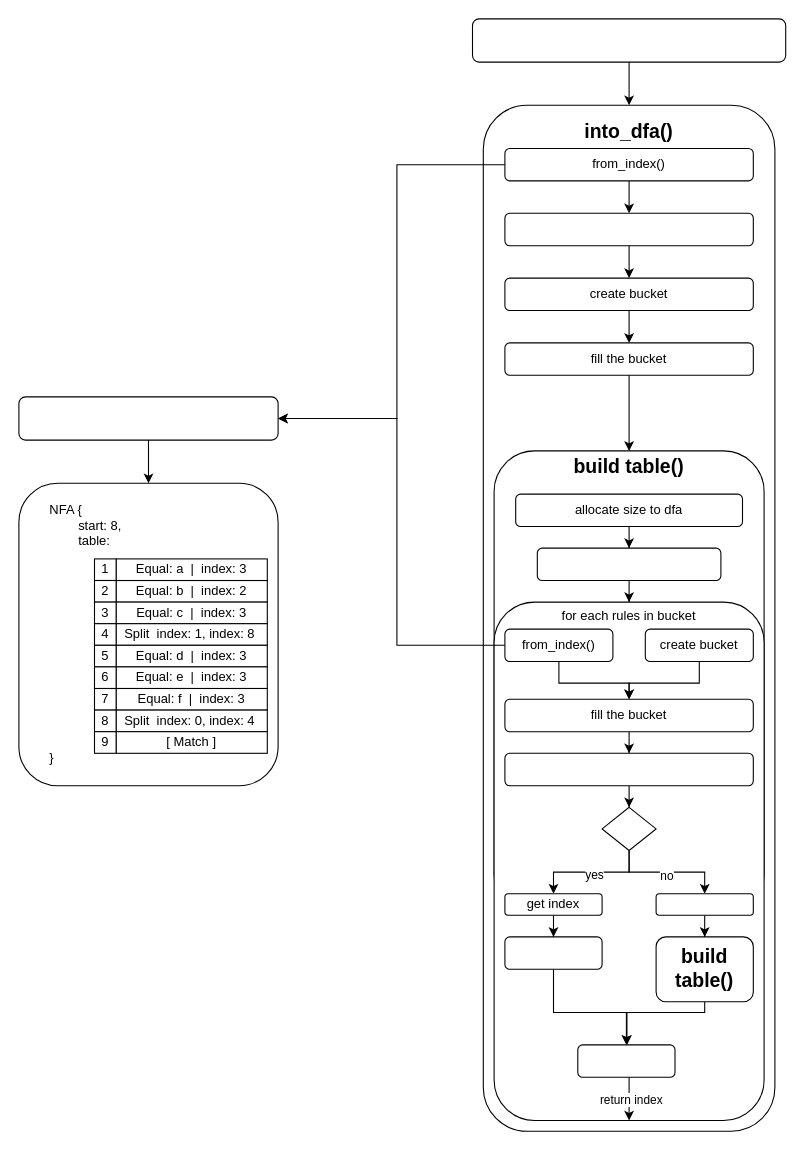
Image size: 805x1150. Some labels were removed from this diagram. Each missing label, with the centre of its shape:
add it to state: pixel 704 904
add to table: pixel 626 1060
add trans to row: pixel 553 952
create a row: pixel 628 563
create the key: pixel 628 769
DFA: pixel 628 40
existe: pixel 628 828
initialize dfa: pixel 628 229
str = "a(bc)*b|def" make_nfa(str): pixel 148 418
